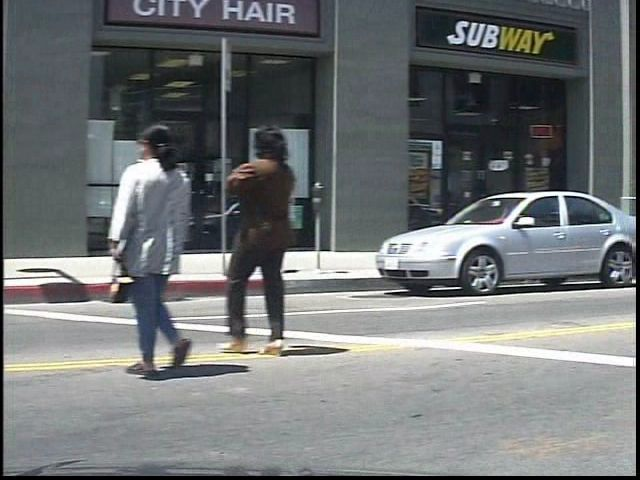person: (116, 123, 221, 378), (233, 119, 315, 358)
